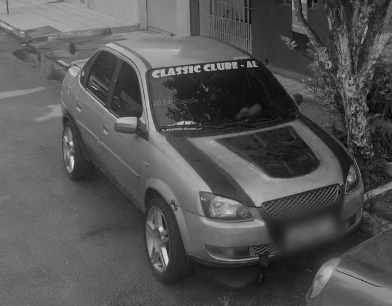car: (55, 33, 367, 274)
